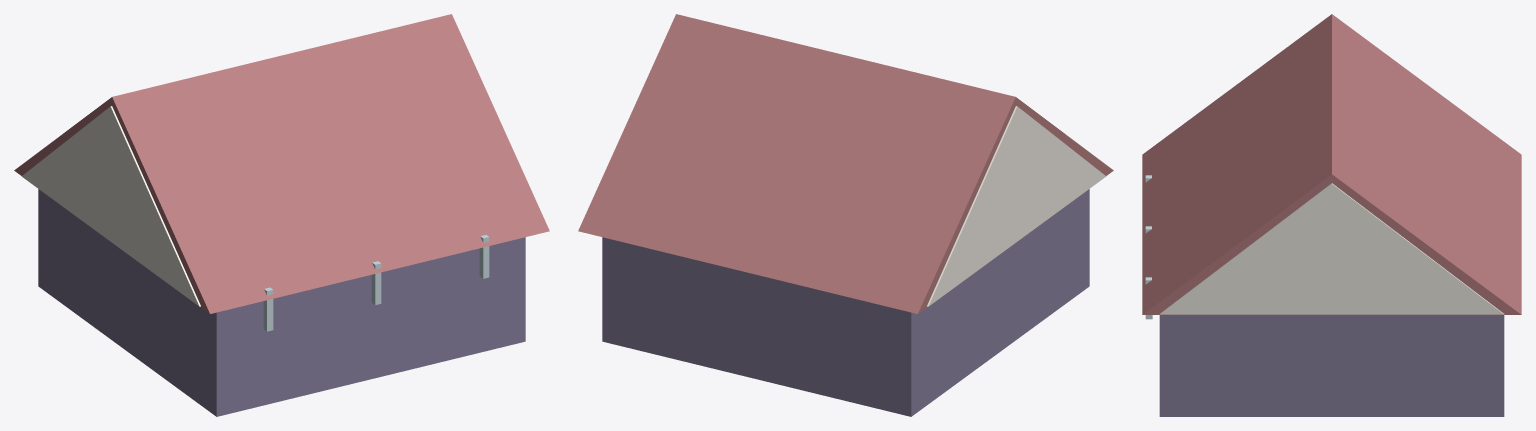
The model's file is sb_roof_segment.glb.
3 views of the same model, side by side, from view 1: azimuth 30°, elevation 25°; view 2: azimuth 150°, elevation 25°; view 3: azimuth 270°, elevation 25° (orthographic). The views are drawn at different scales.
Visible parts, largest first — view 1: roof_segment; view 2: roof_segment; view 3: roof_segment.
Boxes of the visible parts, x1=… form: roof_segment: x1=14, y1=14, x2=549, y2=416; roof_segment: x1=578, y1=14, x2=1113, y2=416; roof_segment: x1=1142, y1=14, x2=1521, y2=416.
Bounding box in the file's own units: 2.22 × 1.6 × 2.2.
